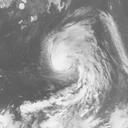cyclone: (42, 22, 95, 78)
